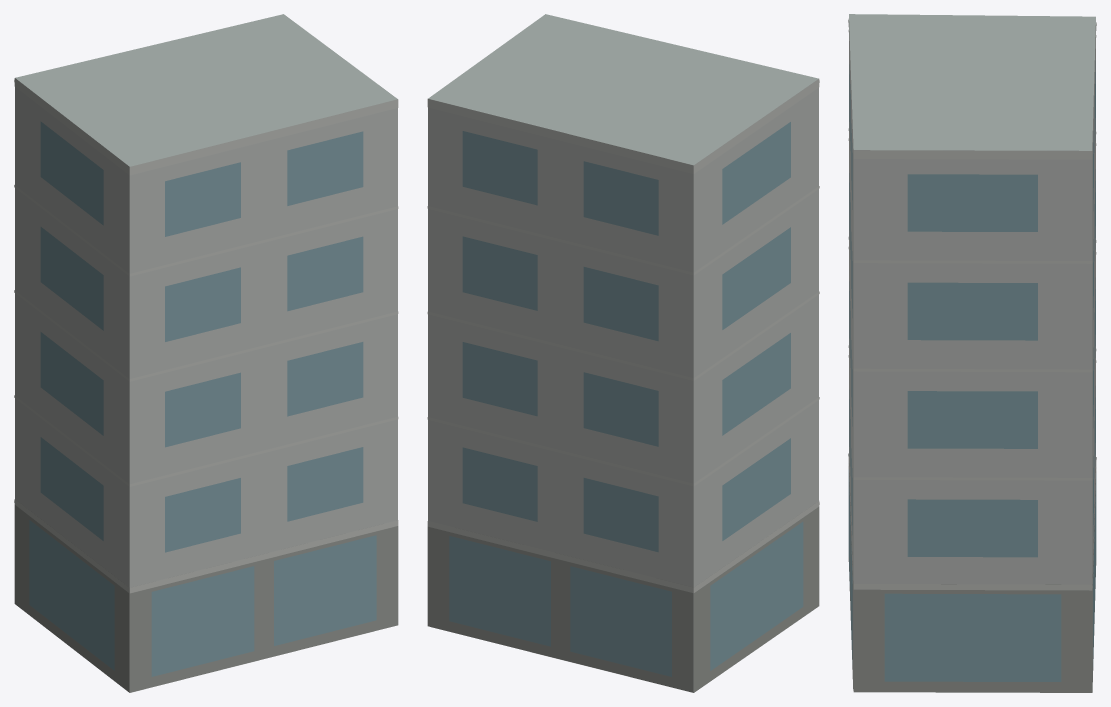
Rendered from survey-upis-32971121.glb.
The picture shows the model from 3 angles, left to right: view 1: azimuth 30°, elevation 25°; view 2: azimuth 150°, elevation 25°; view 3: azimuth 270°, elevation 25°; orthographic projection. The views are drawn at different scales.
Parts seen in each view (by area): view 1: survey-upis-32971121.tmp; view 2: survey-upis-32971121.tmp; view 3: survey-upis-32971121.tmp.
Boxes of the visible parts, left/top/right/bottom form: survey-upis-32971121.tmp: left=14, top=14, right=398, bottom=692; survey-upis-32971121.tmp: left=427, top=14, right=819, bottom=692; survey-upis-32971121.tmp: left=848, top=14, right=1096, bottom=692.
Size of the model in its own units: 8.04 by 14.8 by 6.14.
